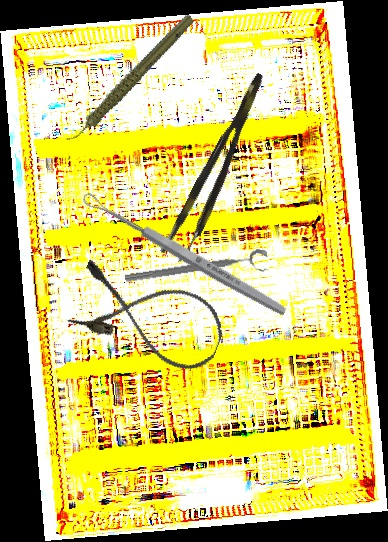Cannula: (64, 254, 233, 379)
Fixation Ring: (124, 247, 270, 295)
Handpiece: (43, 12, 214, 145)
Surgical Spoon: (80, 189, 289, 319)
Tissue Forceps: (158, 71, 281, 265)
